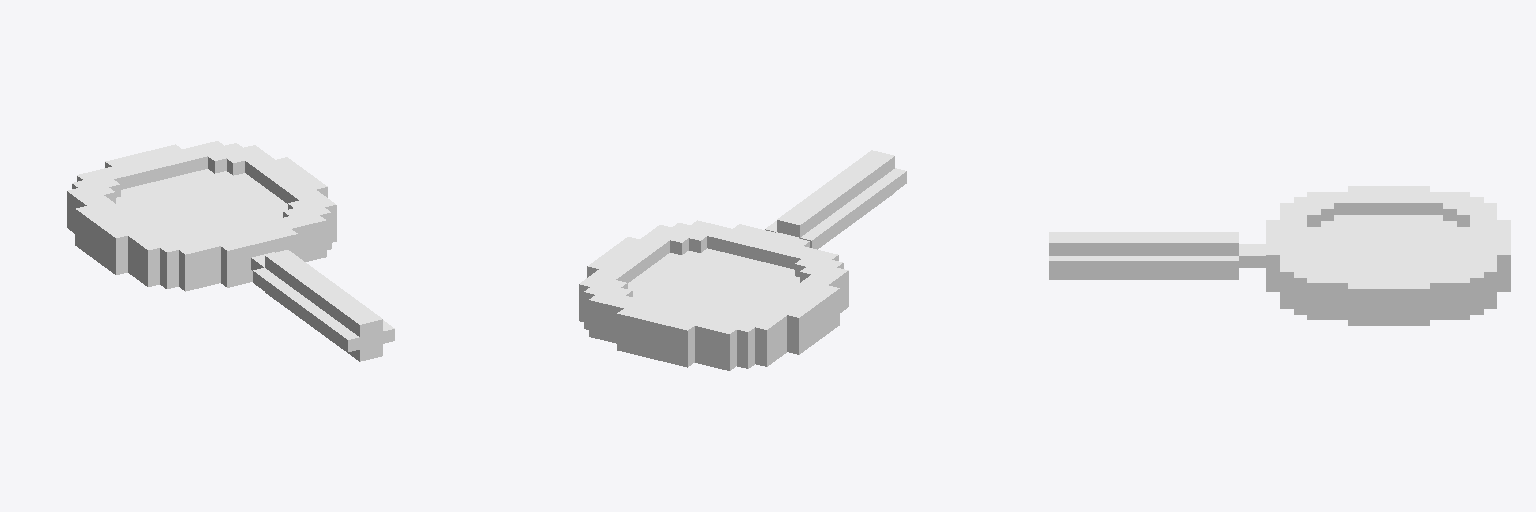
File: loupe.obj
3 renders of one model, left to right at view 1: azimuth 30°, elevation 25°; view 2: azimuth 150°, elevation 25°; view 3: azimuth 270°, elevation 25°, orthographic.
Visible parts, largest first — view 1: object 1; view 2: object 1; view 3: object 1.
Part boxes in pixels (x1,y1,x2,y2): object 1: (67,141,394,361); object 1: (579,150,906,370); object 1: (1049,186,1510,325).
Size of the model in its own units: 1.8 by 0.3 by 3.4.